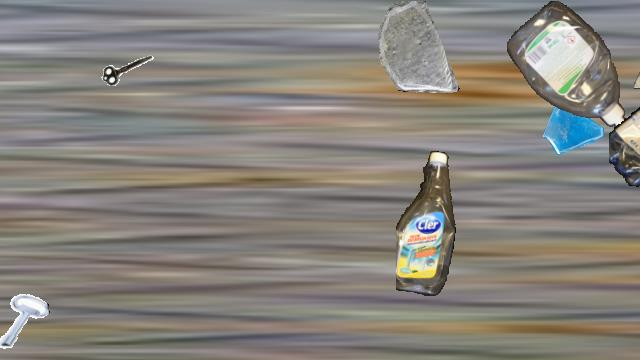glass: (373, 1, 465, 93), (541, 94, 607, 160)
metal: (99, 42, 157, 100), (0, 290, 50, 350)
plastic: (507, 1, 627, 131), (396, 151, 456, 295), (609, 50, 640, 190), (636, 99, 640, 241)
wood: (634, 50, 640, 88)
